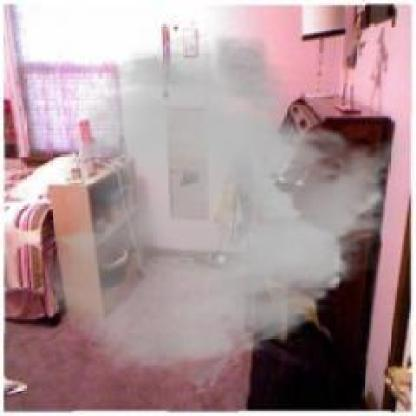Smoke: (41, 30, 410, 395)
